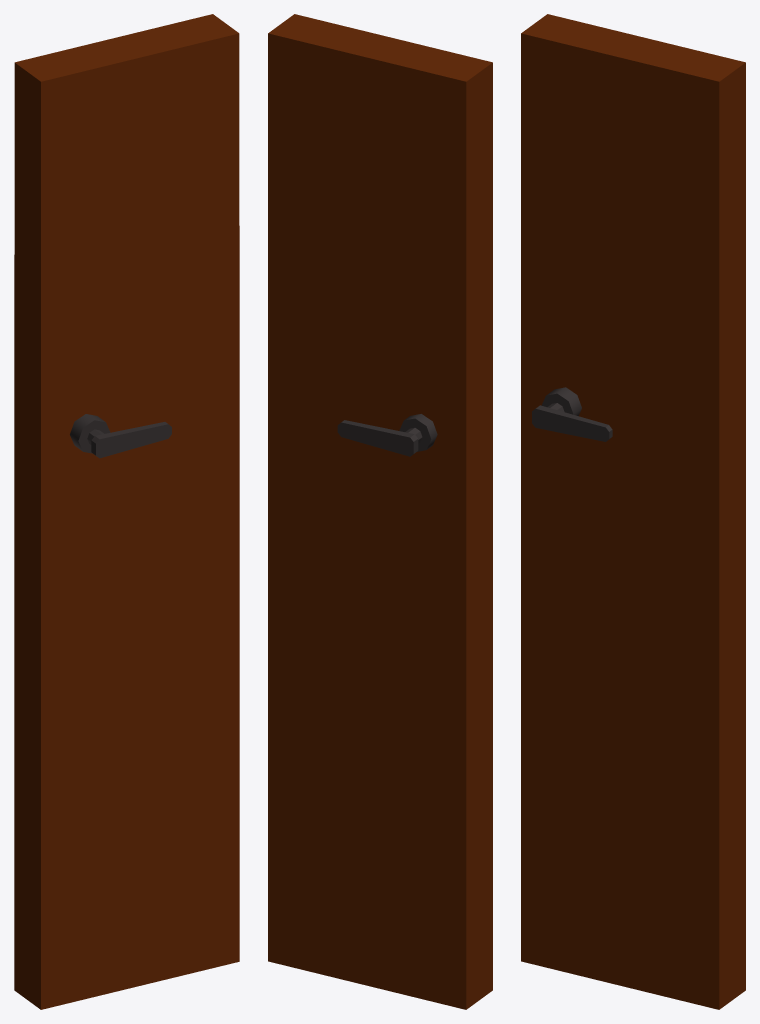
Rendered from Mesh_Door.fbx.
The picture shows the model from 3 angles, left to right: view 1: azimuth 30°, elevation 25°; view 2: azimuth 150°, elevation 25°; view 3: azimuth 330°, elevation 25°; orthographic projection.
Parts seen in each view (by area): view 1: pSphere4; view 2: pSphere4; view 3: pSphere4.
Part boxes in pixels (x1,y1,x2,y2): pSphere4: (14,14,239,1009); pSphere4: (268,14,492,1009); pSphere4: (521,14,745,1009).
Bounding box in the file's own units: 10.96 × 49 × 6.54.
